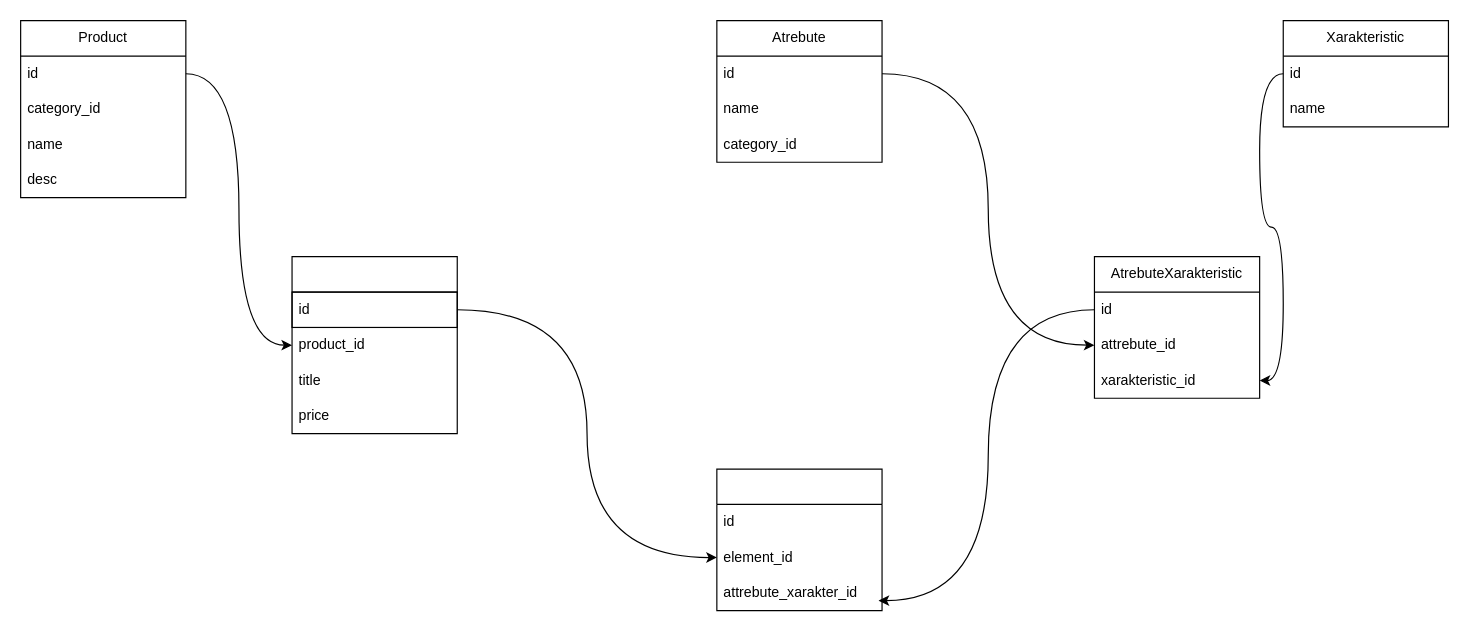
Some shapes in this 1469 by 631 pixel diagram are drawn without their labels. Here are the shapes that lost their labels. From the top down, the box of each, then its label:
(291, 255, 457, 434): Element
(716, 468, 882, 611): Options
